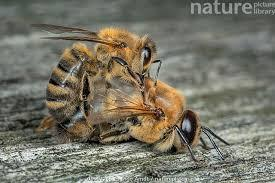worker-bee: (32, 24, 161, 139)
